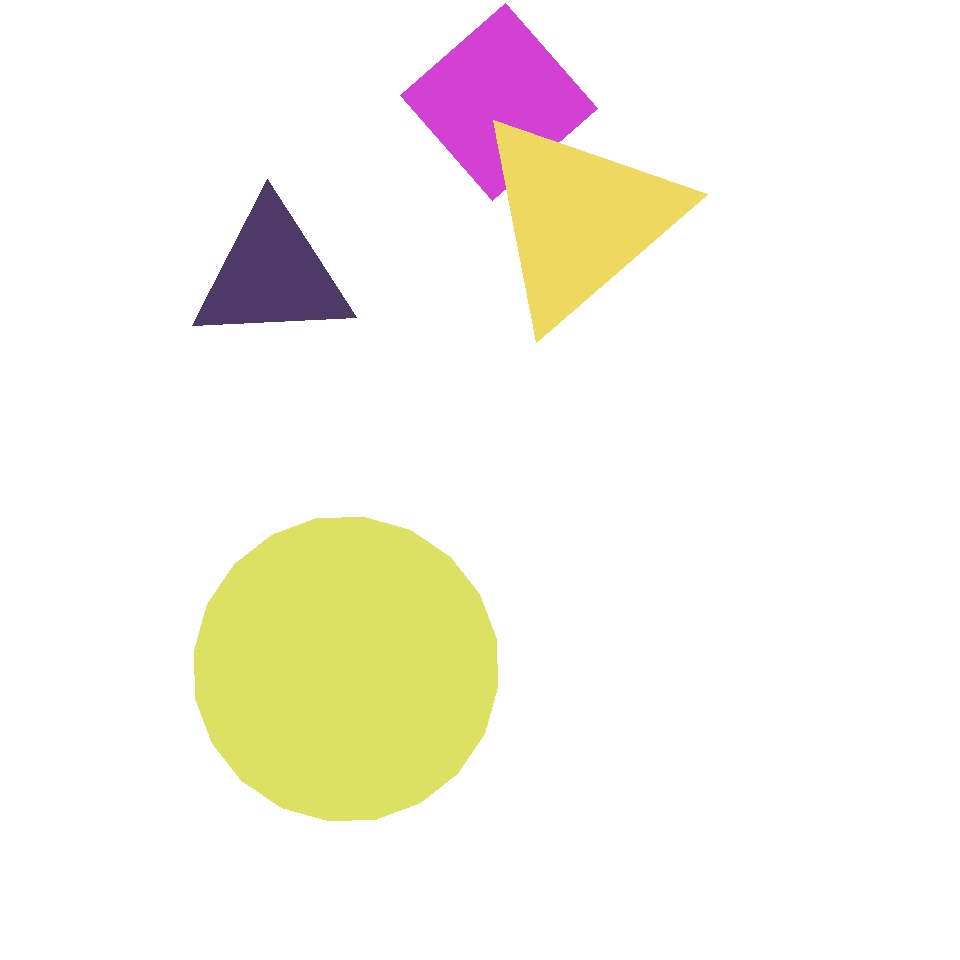circle: (453, 552, 777, 850), (472, 108, 686, 330), (190, 201, 354, 347), (29, 308, 112, 380)
square: (234, 682, 430, 880), (400, 4, 597, 200)
triangle: (336, 280, 716, 660), (194, 518, 497, 820), (448, 309, 696, 557)
